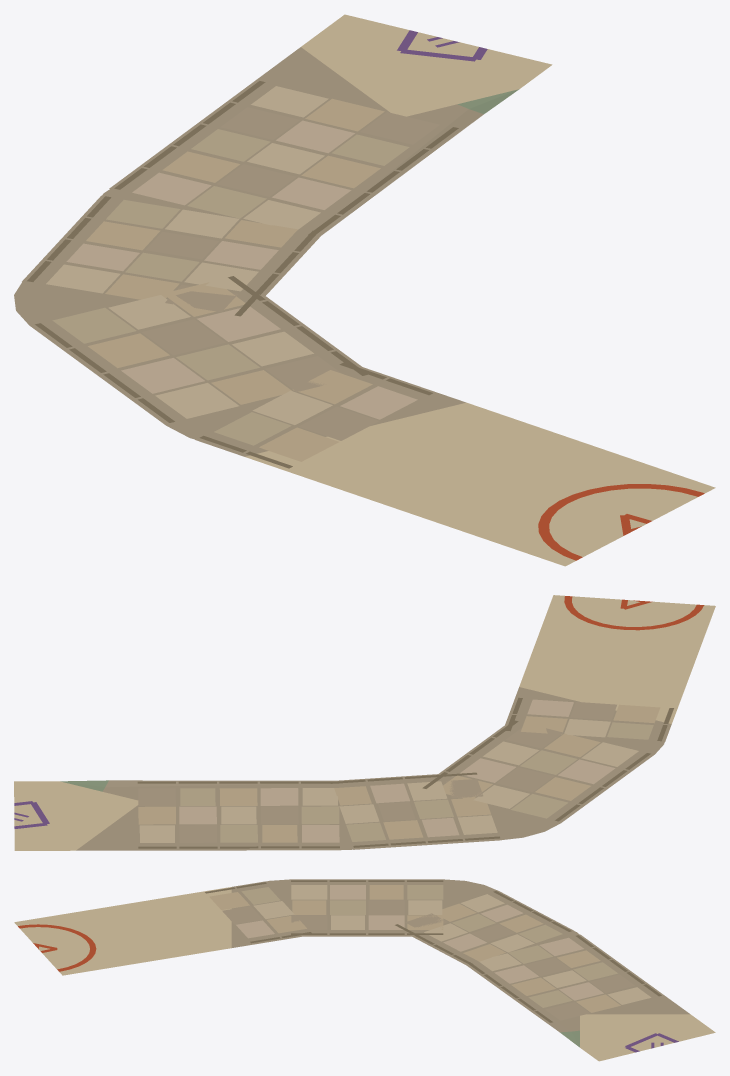
File: route-temple_n-a-walk.glb
3 renders of one model, top to bottom at view 1: azimuth 30°, elevation 25°; view 2: azimuth 150°, elevation 25°; view 3: azimuth 270°, elevation 25°, orthographic. The views are drawn at different scales.
Parts seen in each view (by area): view 1: Surveyed floor · route-temple_n-a-walk, North Temple to Ghat Mandapa / #C2AE8D, North Temple to Ghat Mandapa / #C9B798, North Temple to Ghat Mandapa / #BDAD8E, North Temple to Ghat Mandapa / #C7B399, North Temple to Ghat Mandapa / #AE9D84, North Temple to Ghat Mandapa / #85775D; view 2: Surveyed floor · route-temple_n-a-walk, North Temple to Ghat Mandapa / #C2AE8D, North Temple to Ghat Mandapa / #C9B798, North Temple to Ghat Mandapa / #BDAD8E, North Temple to Ghat Mandapa / #C7B399, North Temple to Ghat Mandapa / #AE9D84, North Temple to Ghat Mandapa / #85775D; view 3: Surveyed floor · route-temple_n-a-walk, North Temple to Ghat Mandapa / #C2AE8D, North Temple to Ghat Mandapa / #C9B798, North Temple to Ghat Mandapa / #BDAD8E, North Temple to Ghat Mandapa / #C7B399, North Temple to Ghat Mandapa / #AE9D84, North Temple to Ghat Mandapa / #85775D.
Part boxes in pixels (left/top/right/bottom): Surveyed floor · route-temple_n-a-walk: left=14, top=14, right=715, bottom=566; North Temple to Ghat Mandapa / #C2AE8D: left=86, top=98, right=384, bottom=461; North Temple to Ghat Mandapa / #C9B798: left=46, top=86, right=332, bottom=424; North Temple to Ghat Mandapa / #BDAD8E: left=52, top=129, right=409, bottom=445; North Temple to Ghat Mandapa / #C7B399: left=66, top=120, right=417, bottom=419; North Temple to Ghat Mandapa / #AE9D84: left=142, top=107, right=439, bottom=440; North Temple to Ghat Mandapa / #85775D: left=27, top=81, right=458, bottom=468; Surveyed floor · route-temple_n-a-walk: left=14, top=595, right=715, bottom=850; North Temple to Ghat Mandapa / #C2AE8D: left=138, top=704, right=660, bottom=842; North Temple to Ghat Mandapa / #C9B798: left=139, top=719, right=638, bottom=842; North Temple to Ghat Mandapa / #BDAD8E: left=180, top=722, right=653, bottom=842; North Temple to Ghat Mandapa / #C7B399: left=179, top=699, right=615, bottom=842; North Temple to Ghat Mandapa / #AE9D84: left=138, top=702, right=616, bottom=842; North Temple to Ghat Mandapa / #85775D: left=137, top=697, right=673, bottom=848; Surveyed floor · route-temple_n-a-walk: left=14, top=879, right=715, bottom=1061; North Temple to Ghat Mandapa / #C2AE8D: left=209, top=885, right=620, bottom=1012; North Temple to Ghat Mandapa / #C9B798: left=253, top=885, right=651, bottom=1004; North Temple to Ghat Mandapa / #BDAD8E: left=241, top=885, right=617, bottom=1007; North Temple to Ghat Mandapa / #C7B399: left=236, top=885, right=603, bottom=1000; North Temple to Ghat Mandapa / #AE9D84: left=222, top=900, right=634, bottom=1020; North Temple to Ghat Mandapa / #85775D: left=205, top=880, right=661, bottom=1022.
Bounding box in the file's own units: 22.26 × 0.0509 × 36.28.
